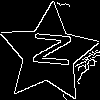N: (23, 28, 71, 69)
